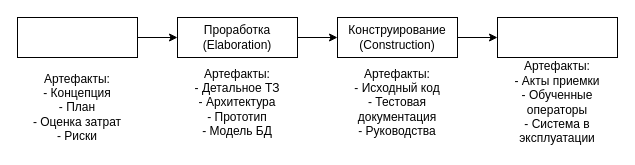
Image size: 635x165. Some labels were removed from this diagram. The shapes that lost their labels are listed below. From the top down, each one's box as (x1, y1, x2, y2) in pixels, then its label:
(16, 16, 138, 58): Инициация (Inception)
(496, 16, 618, 58): Внедрение (Transition)
